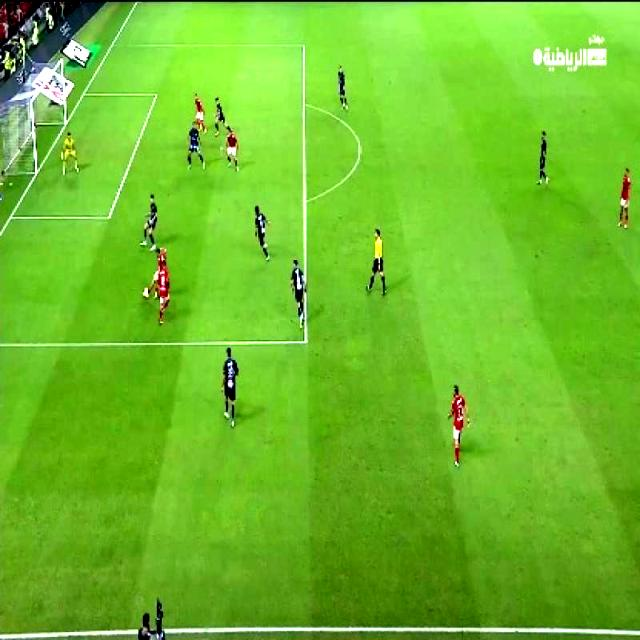bigarea_bottom_inner: (292, 331, 318, 353)
bigarea_top_inner: (299, 40, 306, 50)
bigarea_top_outter: (103, 40, 124, 52)
bottom_arc_area_intersection: (300, 196, 308, 206)
smallarea_bottom_inner: (103, 206, 114, 224)
smallarea_bottom_outter: (5, 205, 18, 225)
smallarea_top_inner: (151, 88, 159, 100)
smallarea_top_outter: (78, 86, 88, 97)
top_arc_area_intersection: (300, 98, 308, 110)
